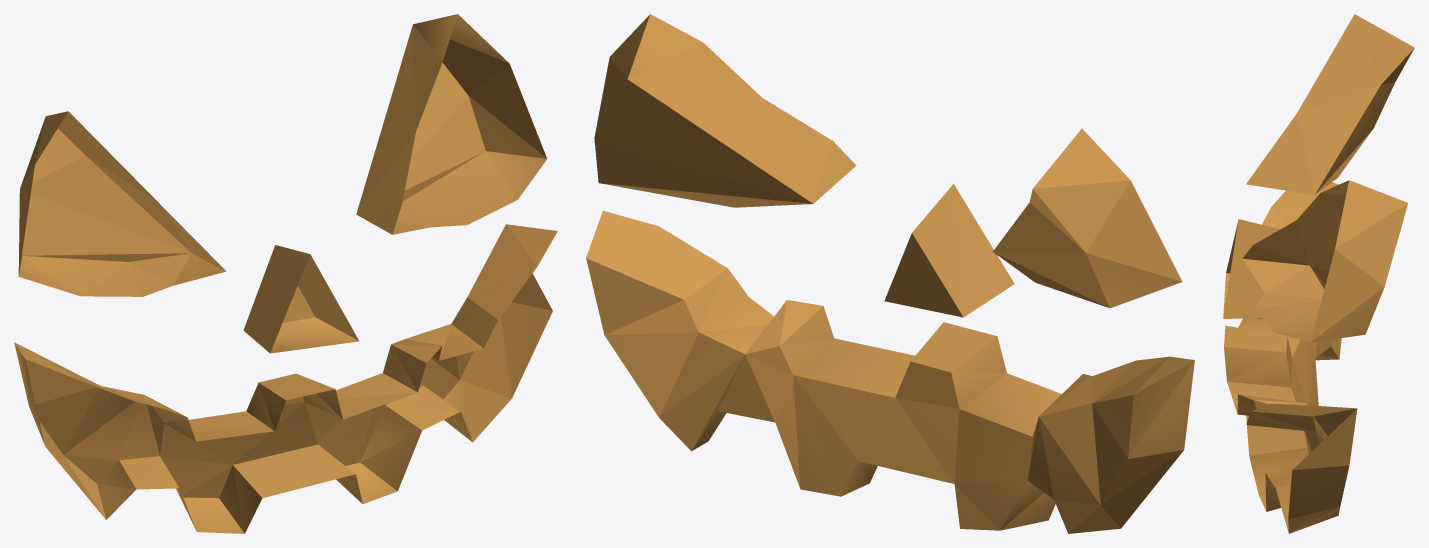
Rendered from EVHalloween_Decor_JackOLanternGrin_Glow2.fbx.
The picture shows the model from 3 angles, left to right: view 1: azimuth 30°, elevation 25°; view 2: azimuth 150°, elevation 25°; view 3: azimuth 270°, elevation 25°; orthographic projection. The views are drawn at different scales.
Parts seen in each view (by area): view 1: EVHalloween_Decor_PumpkinOrange; view 2: EVHalloween_Decor_PumpkinOrange; view 3: EVHalloween_Decor_PumpkinOrange.
Part boxes in pixels (box(x1,y1,x2,y2)): EVHalloween_Decor_PumpkinOrange: box(14, 14, 557, 533); EVHalloween_Decor_PumpkinOrange: box(586, 14, 1194, 533); EVHalloween_Decor_PumpkinOrange: box(1223, 14, 1414, 533).
Bounding box in the file's own units: 18.69 × 14.15 × 6.47.
